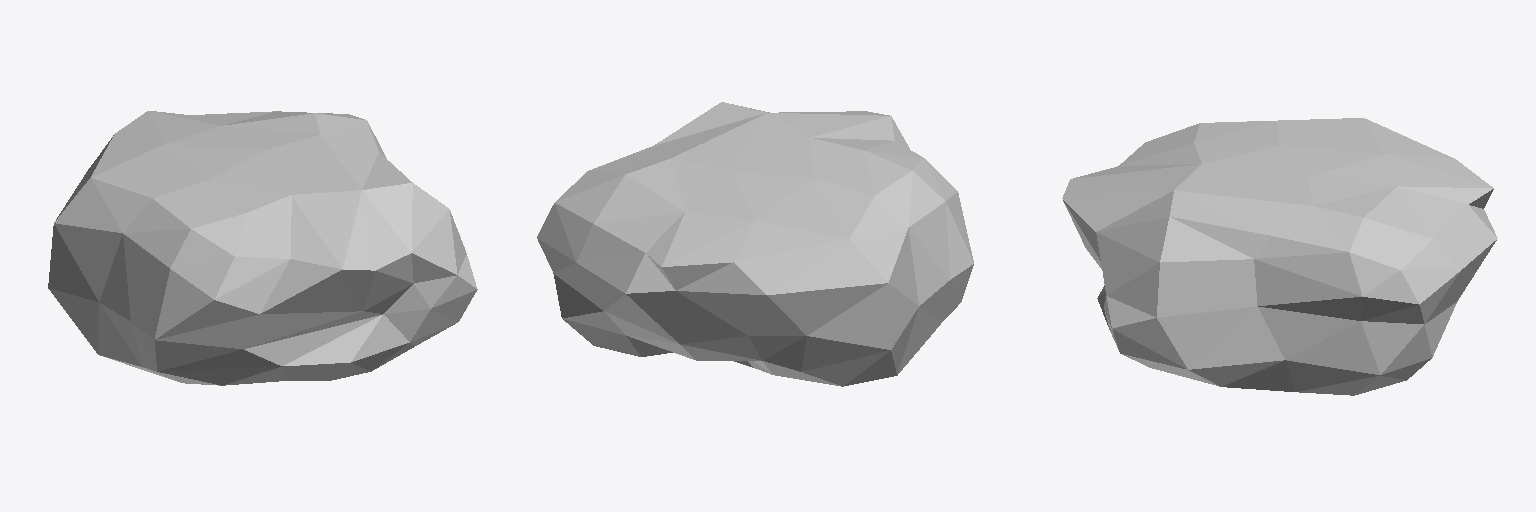
The model's file is small.obj.
3 renders of one model, left to right at view 1: azimuth 30°, elevation 25°; view 2: azimuth 150°, elevation 25°; view 3: azimuth 270°, elevation 25°, orthographic.
Visible parts, largest first — view 1: Cube; view 2: Cube; view 3: Cube.
Boxes of the visible parts, <box> form: Cube: <box>48,111,477,385</box>; Cube: <box>537,102,973,386</box>; Cube: <box>1062,118,1497,395</box>.
Size of the model in its own units: 0.4457 by 0.2357 by 0.508.